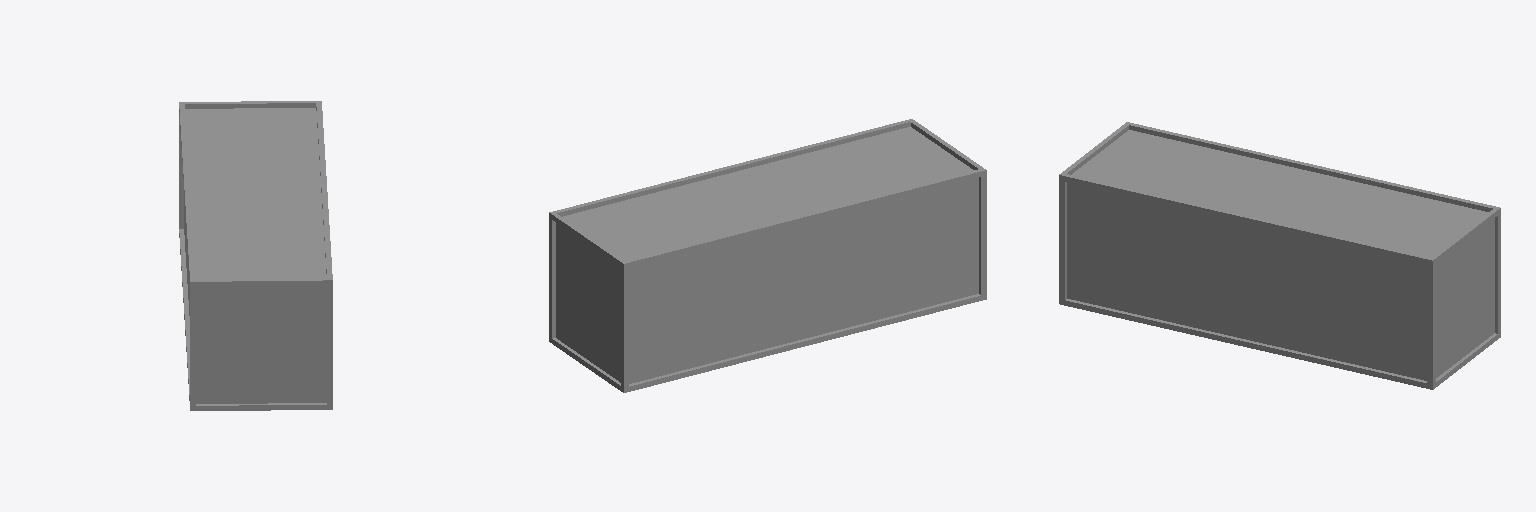
File: SciFiHangar_009_UVUNRWAPPINGVERSION_LargeCrate.obj
3 views of the same model, side by side, from view 1: azimuth 30°, elevation 25°; view 2: azimuth 150°, elevation 25°; view 3: azimuth 270°, elevation 25° (orthographic).
Visible parts, largest first — view 1: Storage_Crate_Cube.009; view 2: Storage_Crate_Cube.009; view 3: Storage_Crate_Cube.009.
Boxes of the visible parts, x1,y1,x2,y2 form: Storage_Crate_Cube.009: [179, 101, 332, 410]; Storage_Crate_Cube.009: [549, 119, 986, 392]; Storage_Crate_Cube.009: [1059, 122, 1500, 389].
Bounding box in the file's own units: 2.01 × 0.8755 × 2.71.